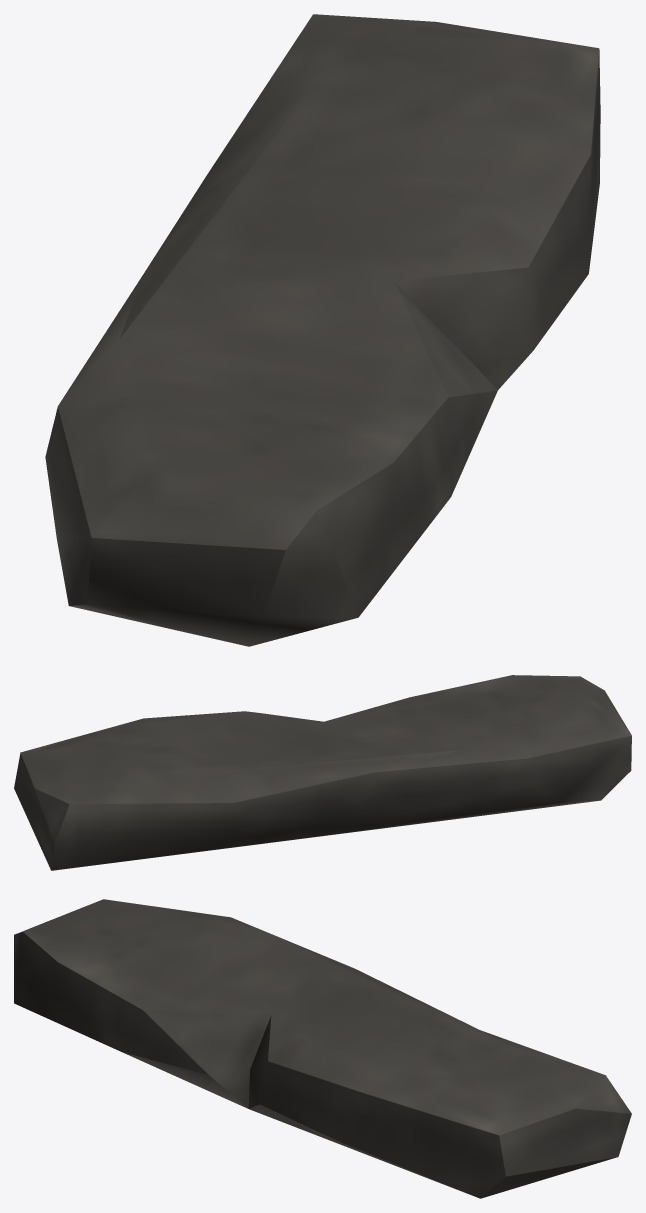
The model's file is Stair_el3.fbx.
The picture shows the model from 3 angles, top to bottom: view 1: azimuth 30°, elevation 25°; view 2: azimuth 150°, elevation 25°; view 3: azimuth 270°, elevation 25°; orthographic projection. The views are drawn at different scales.
Parts seen in each view (by area): view 1: Stair_el3; view 2: Stair_el3; view 3: Stair_el3.
Part boxes in pixels (<box>): Stair_el3: <box>45,14,600,646</box>; Stair_el3: <box>14,675,631,870</box>; Stair_el3: <box>14,899,631,1198</box>.
Size of the model in its own units: 254 by 41.5 by 274.
1 material, 1 textured.
